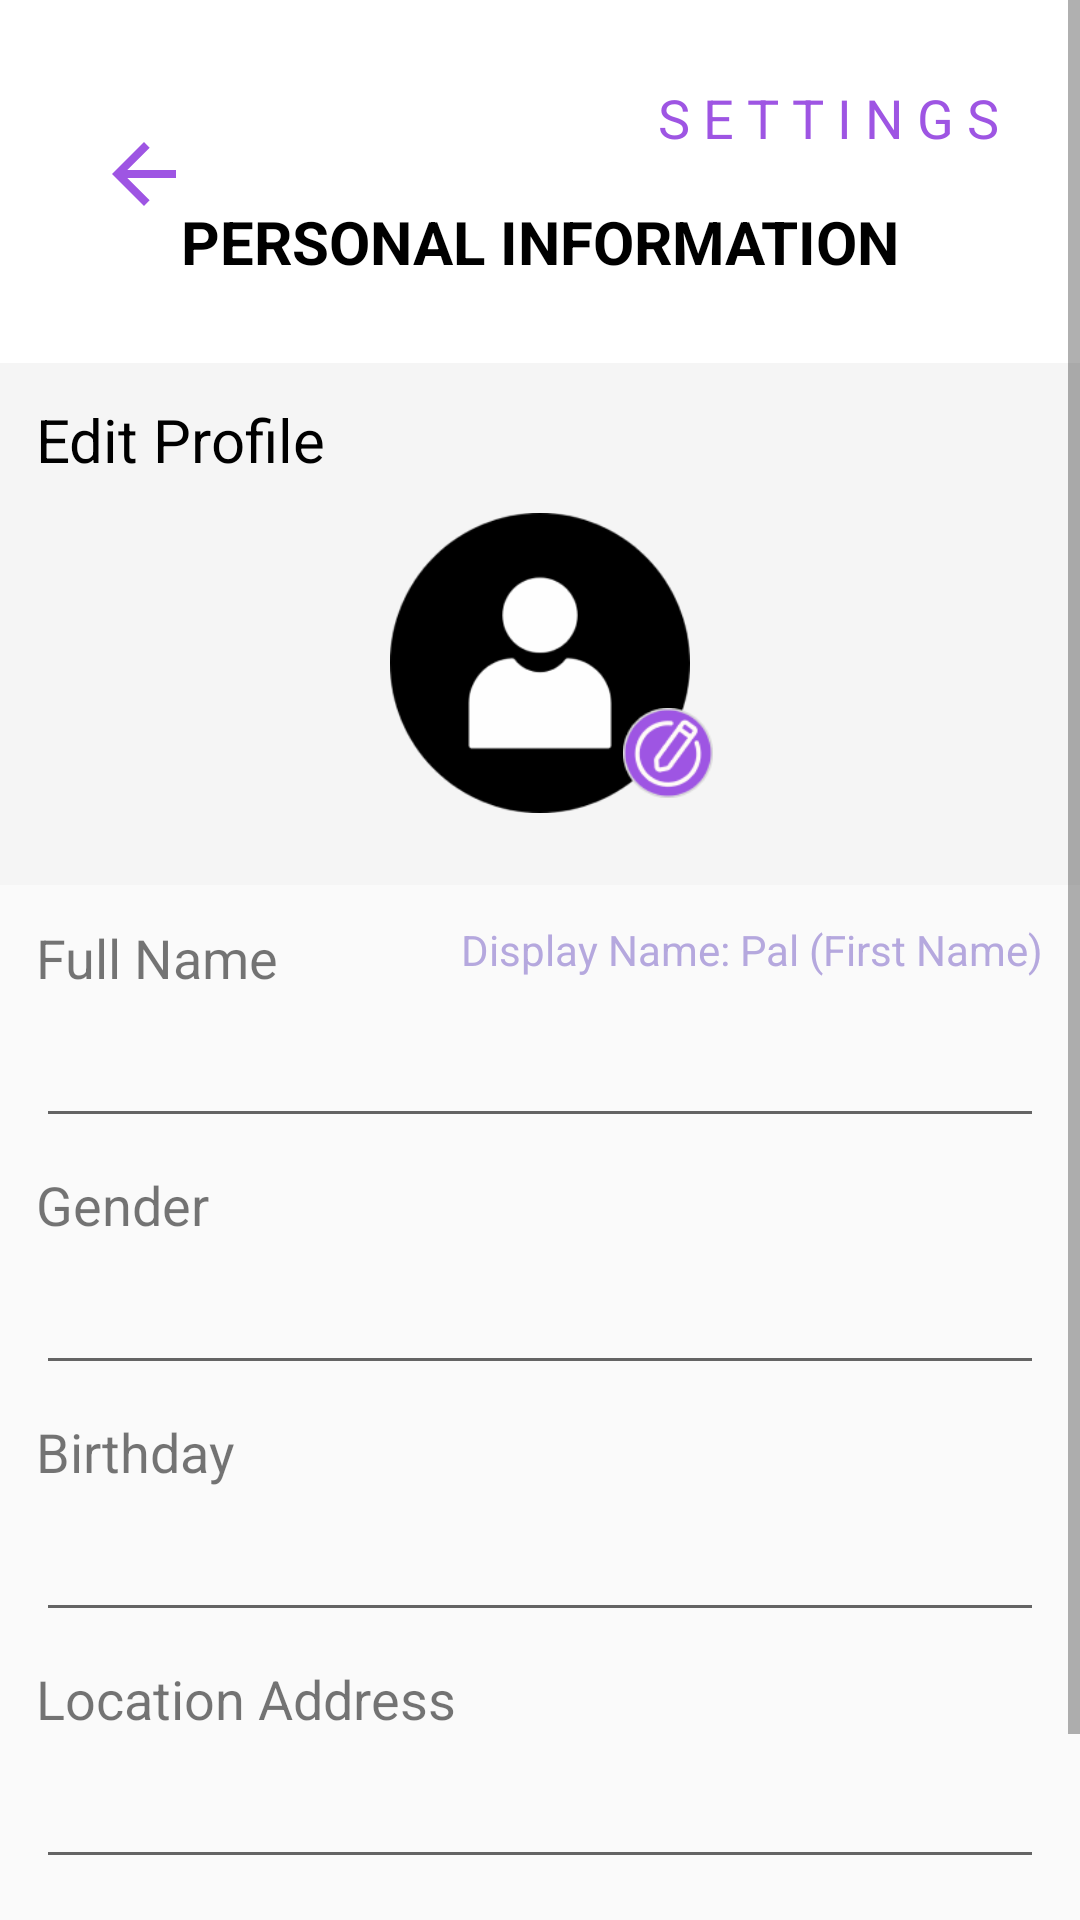

Icon click points for this 1080px x 1920px phone screenshot, format [x,y]:
Back button: [144,174]
